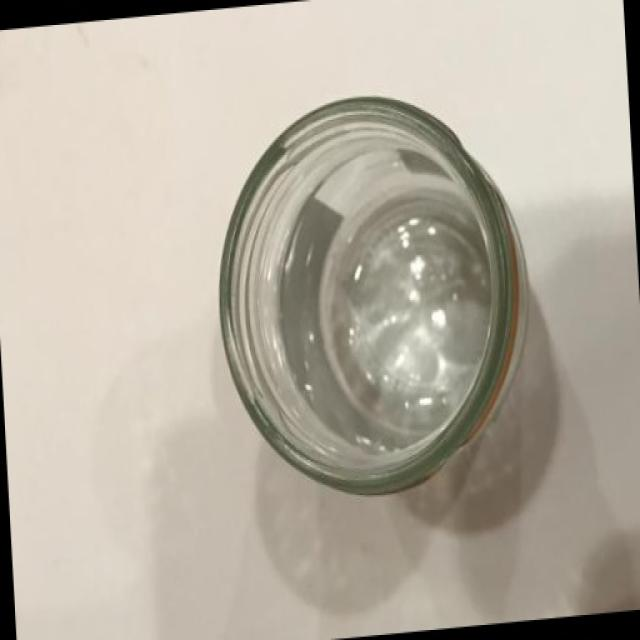vidrio: (188, 79, 583, 542)
